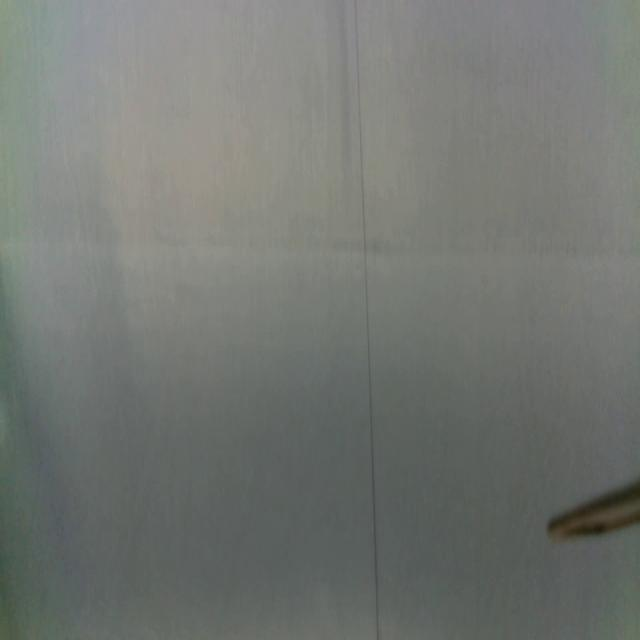color bleeding: (0, 218, 640, 266)
crease: (352, 0, 381, 640)
